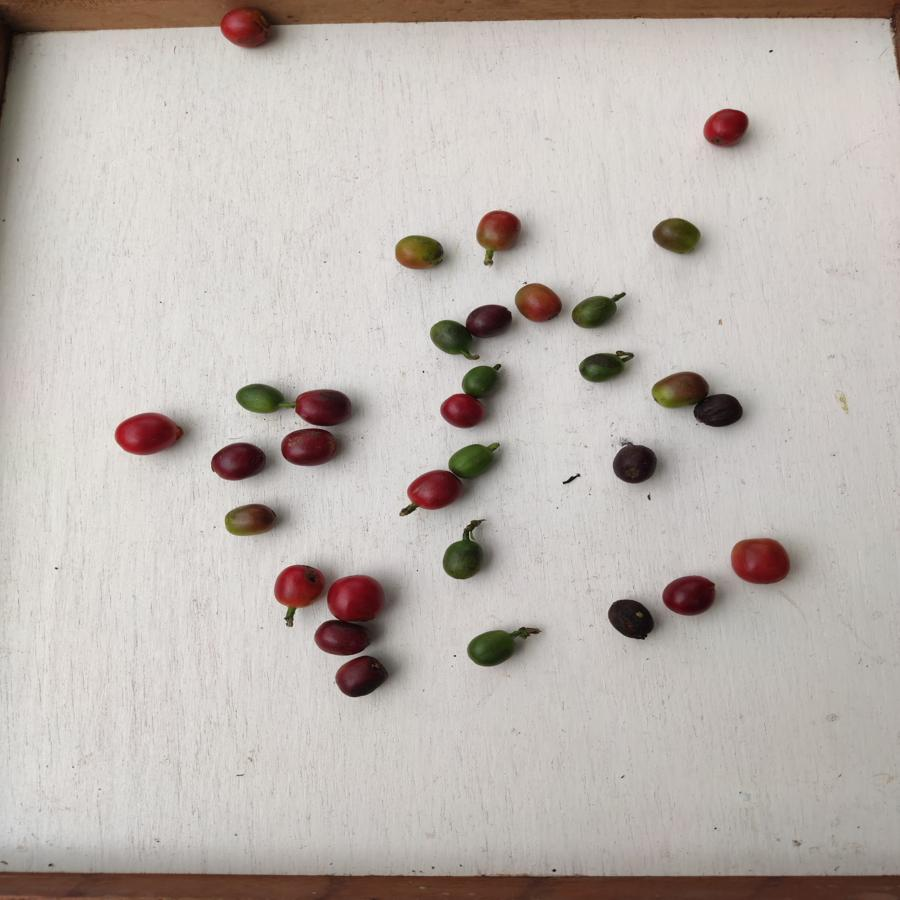Inmaduro: (465, 629, 518, 672), (577, 347, 628, 386), (447, 443, 499, 479), (442, 539, 485, 582), (234, 381, 285, 417), (429, 318, 471, 361), (571, 294, 618, 331), (460, 364, 506, 398)
Maduro: (113, 411, 183, 459), (728, 537, 793, 587), (324, 575, 386, 624), (217, 6, 275, 50), (272, 562, 324, 610), (407, 468, 465, 510), (702, 108, 751, 148), (437, 395, 487, 429)
Pinton: (512, 281, 566, 325), (393, 229, 446, 273), (650, 216, 703, 257), (473, 209, 522, 252), (652, 369, 700, 407), (224, 502, 276, 537)
Sobremaduro: (313, 621, 380, 659), (660, 574, 717, 617), (212, 441, 270, 483), (607, 596, 658, 643), (298, 387, 353, 429), (335, 656, 388, 698), (281, 426, 337, 465), (614, 443, 659, 487), (696, 392, 745, 428), (466, 303, 516, 336)
